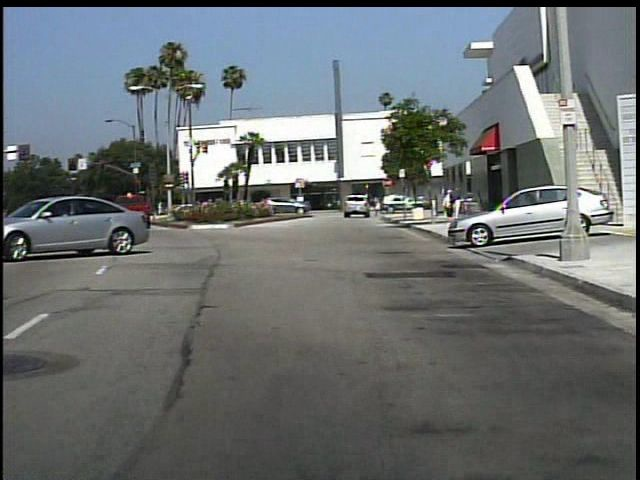person: (450, 187, 464, 224), (471, 188, 487, 220), (373, 192, 387, 220), (442, 190, 453, 221)
